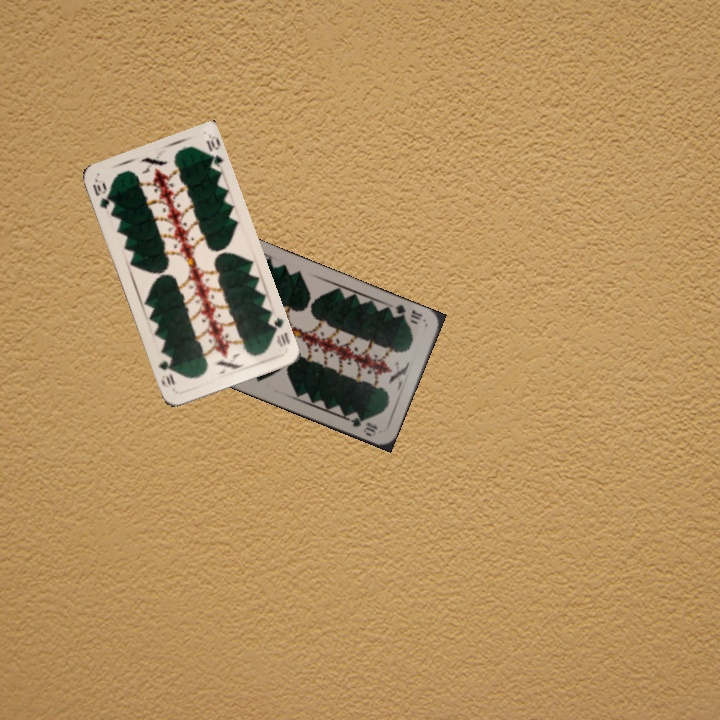G10: (266, 313, 293, 349), (88, 179, 113, 212), (391, 300, 425, 323)
